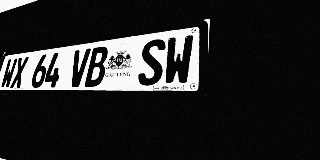4: (43, 52, 64, 88)
6: (30, 54, 50, 88)
B: (84, 46, 109, 87)
S: (137, 38, 166, 86)
V: (67, 48, 91, 87)
W: (163, 34, 194, 85), (0, 58, 18, 88)
X: (10, 56, 29, 88)
